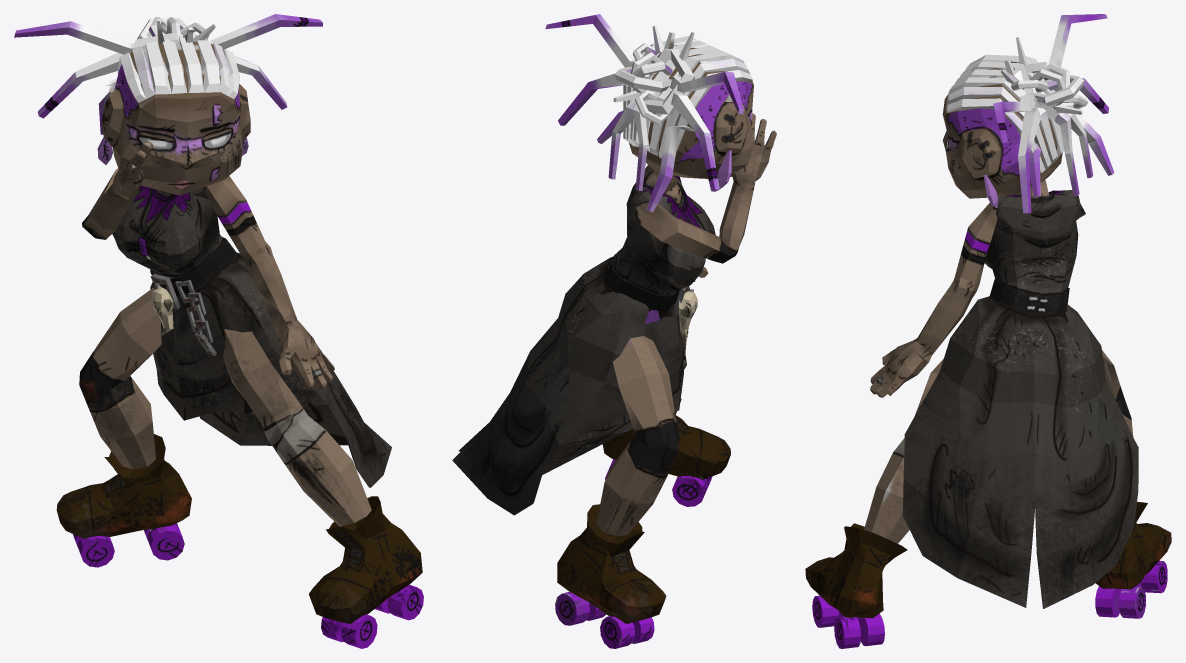
The model's file is bruja_000037.obj.
3 views of the same model, side by side, from view 1: azimuth 30°, elevation 25°; view 2: azimuth 150°, elevation 25°; view 3: azimuth 270°, elevation 25° (orthographic). The views are drawn at different scales.
Visible parts, largest first — view 1: Bruja_Plane.001; view 2: Bruja_Plane.001; view 3: Bruja_Plane.001.
Boxes of the visible parts, bbox=[...] form: Bruja_Plane.001: bbox=[14, 14, 423, 648]; Bruja_Plane.001: bbox=[452, 14, 776, 648]; Bruja_Plane.001: bbox=[805, 14, 1171, 648].
Bounding box in the file's own units: 9.25 × 15.44 × 9.24.
